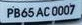character: (35, 6, 44, 17), (6, 6, 13, 18), (43, 5, 50, 17), (57, 4, 64, 16), (20, 7, 28, 17), (13, 7, 20, 18), (27, 6, 34, 17), (51, 5, 58, 16), (63, 4, 70, 15), (69, 3, 75, 15)
